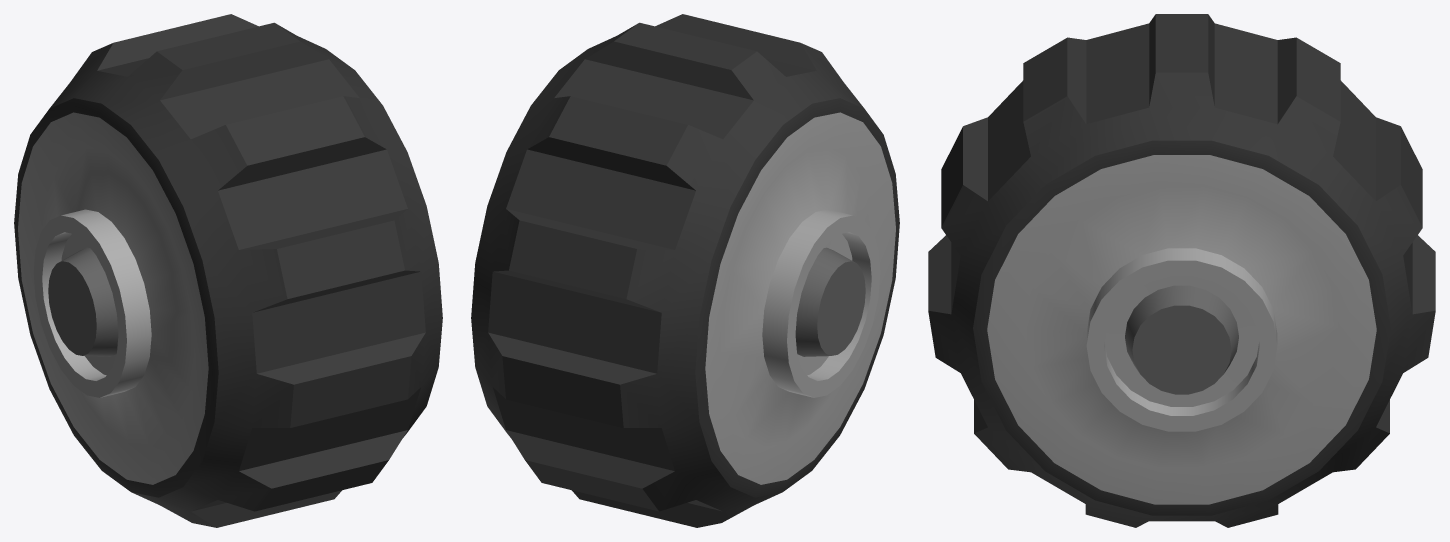
File: c_rv4_wheel_4.002_lev4.glb
The picture shows the model from 3 angles, left to right: view 1: azimuth 30°, elevation 25°; view 2: azimuth 150°, elevation 25°; view 3: azimuth 270°, elevation 25°; orthographic projection. The views are drawn at different scales.
Visible parts, largest first — view 1: c_rv4_wheel_4.002_lev4; view 2: c_rv4_wheel_4.002_lev4; view 3: c_rv4_wheel_4.002_lev4.
Boxes of the visible parts, x1,y1,x2,y2 form: c_rv4_wheel_4.002_lev4: (14,14,442,527); c_rv4_wheel_4.002_lev4: (471,14,899,527); c_rv4_wheel_4.002_lev4: (928,14,1435,527).
Bounding box in the file's own units: 0.6044 × 0.8254 × 0.8339.
1 material, 1 textured.
